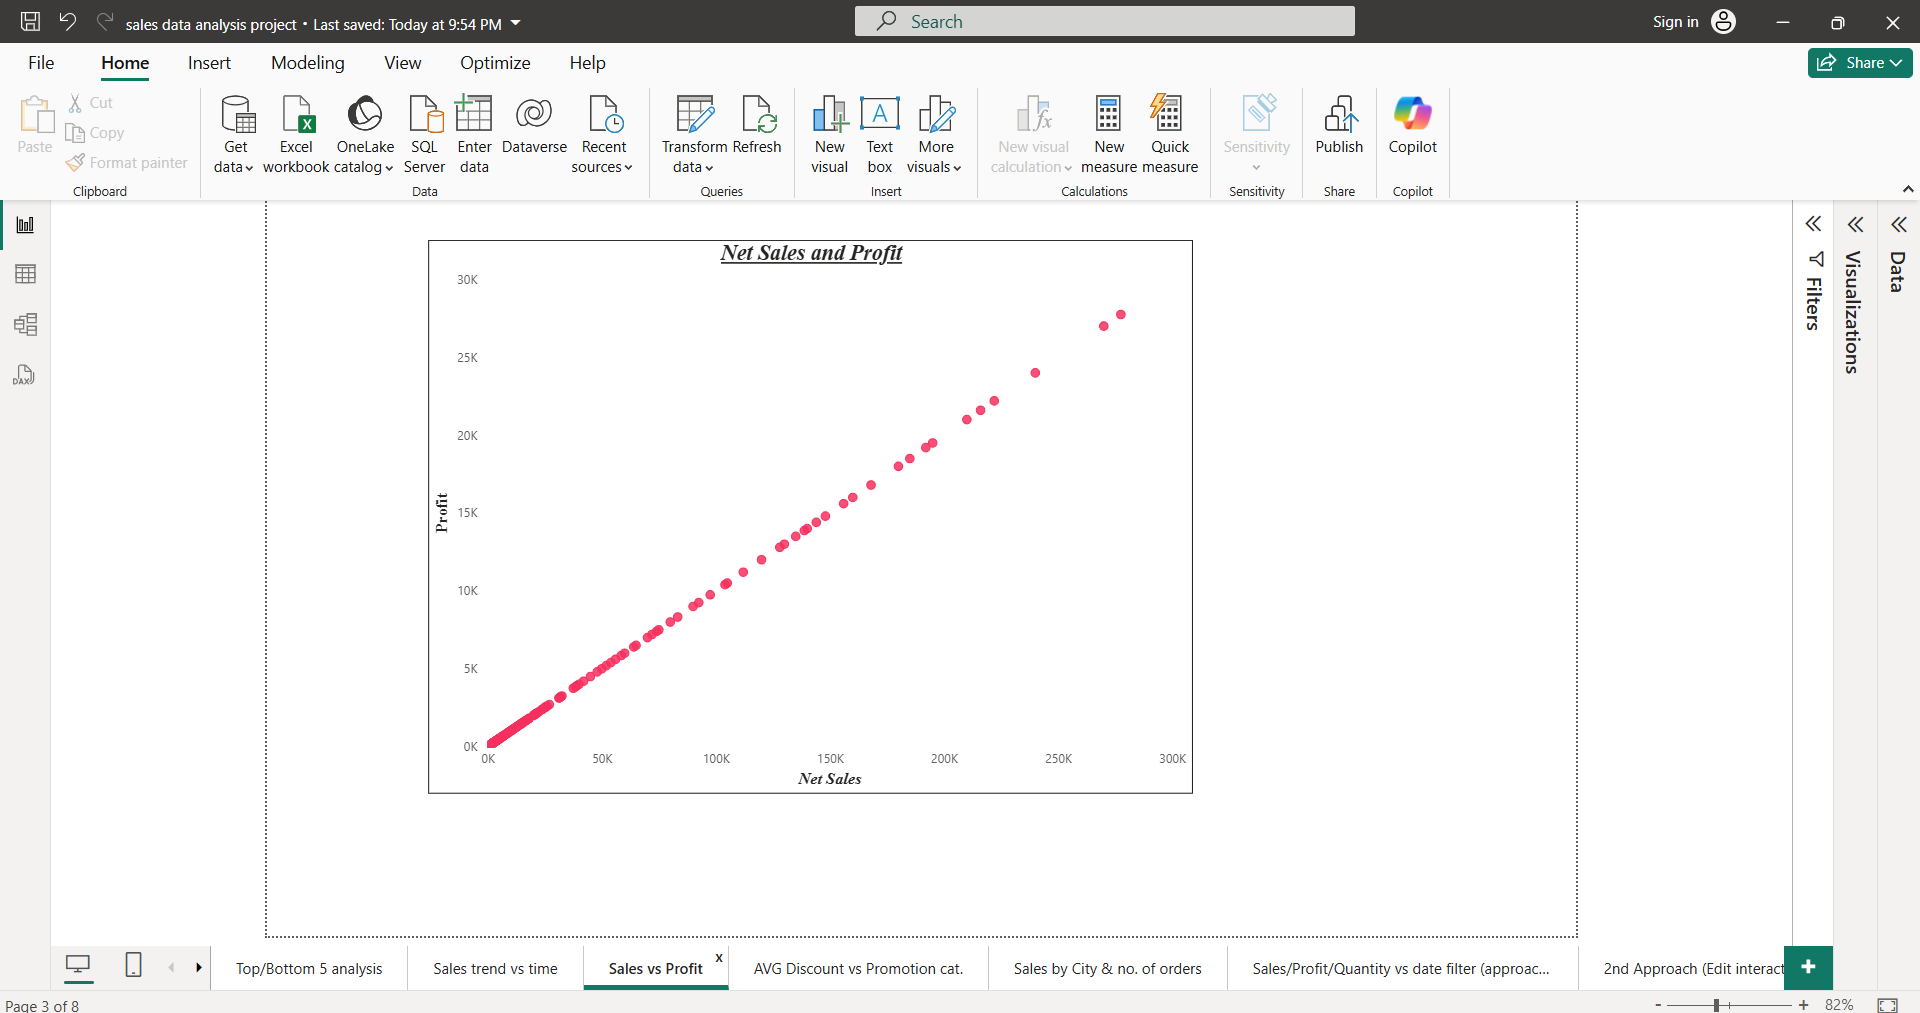

The page's visual inventory and layout, read from the dashboard file:
{"tool":"powerbi","page":{"name":"Sales vs Profit","canvas":[1280,720],"ordinal":2},"visuals":[{"type":"scatterChart","fields":{"X":["Fact table.Net Sales "],"Y":["Fact table.Profit"]},"box":[157.7,39.1,748.4,541.7],"z":0}]}

Visuals, with their boxes on the page's 1280x720 design canvas (x1, y1, x2, y2). These are canvas units, not pixel positions in the 1920x1013 screenshot, which may show the page scaled, cropped or inside an application window:
scatterChart - Fact table.Net Sales  x Fact table.Profit: {"x1": 158, "y1": 39, "x2": 906, "y2": 581}
